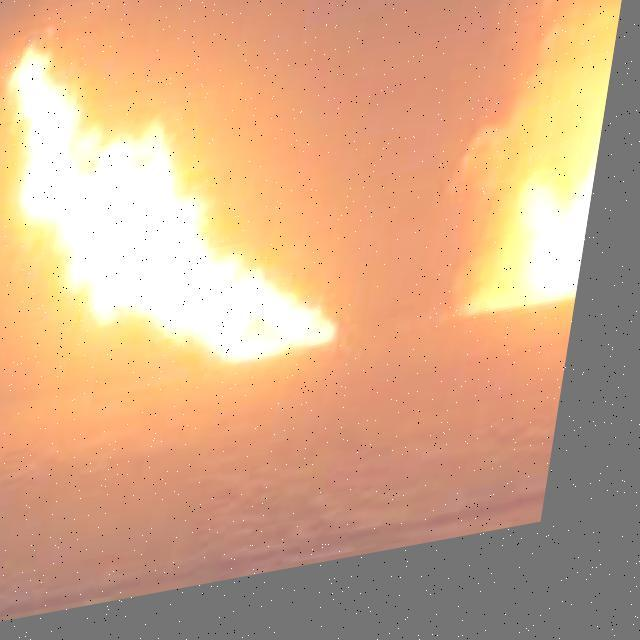Fire: (0, 0, 401, 415), (488, 157, 608, 337)
